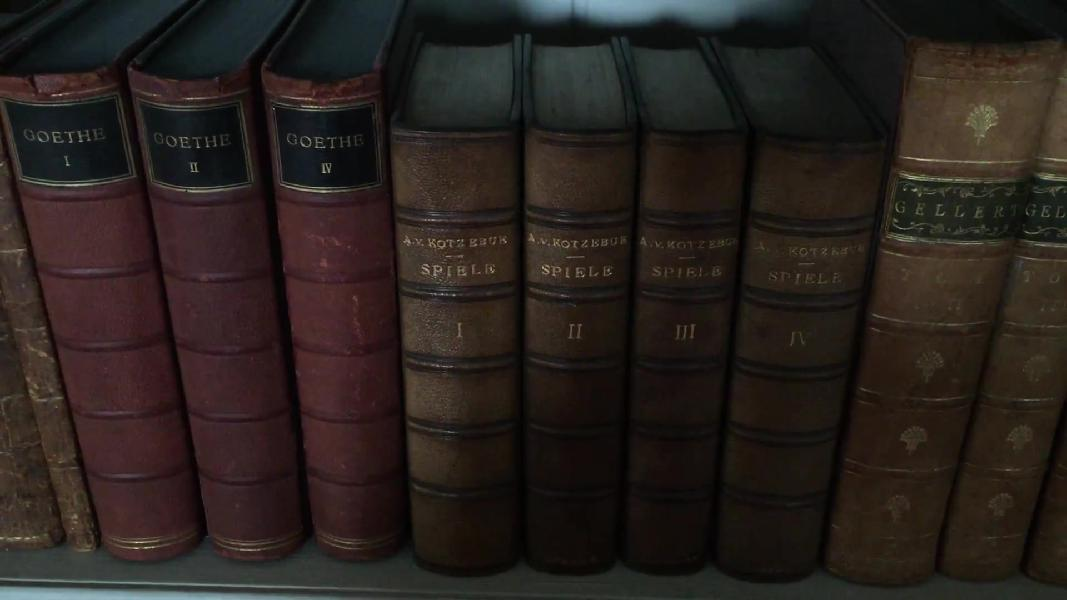Aa6-11_13: (8, 61, 416, 574)
Aa6-14_17: (389, 116, 877, 579)
